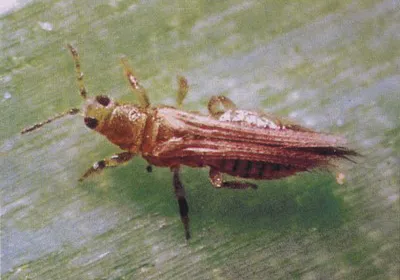Thripidae: (21, 46, 360, 243)
